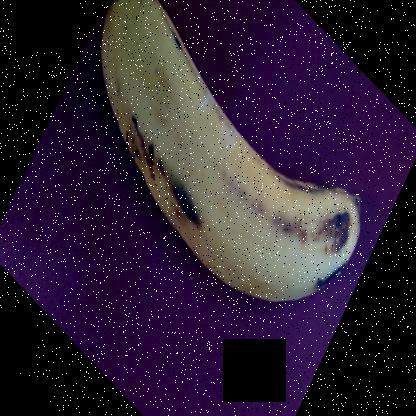ripe: (92, 1, 374, 325)
